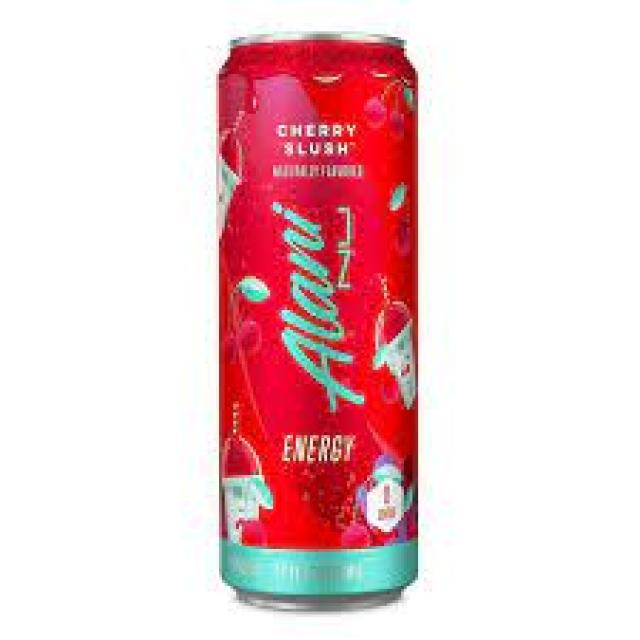Cans: (202, 23, 444, 620)
